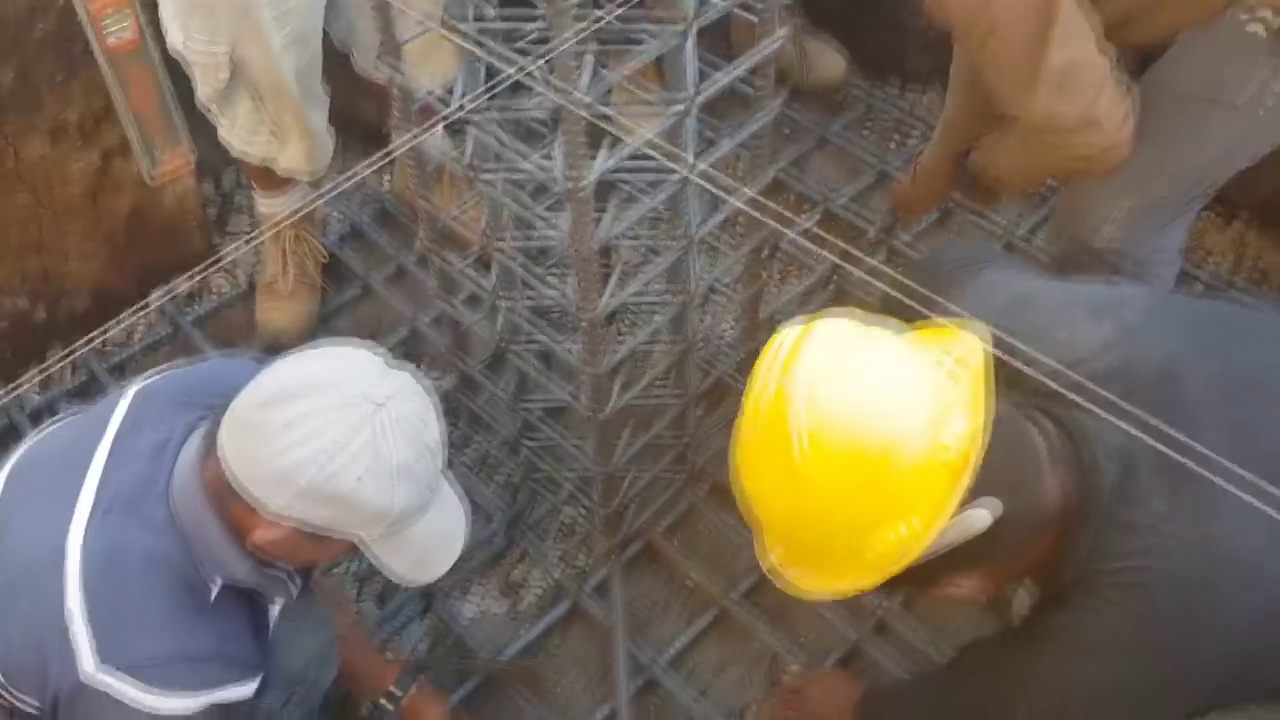helmet: (736, 316, 993, 622)
helmet-off: (209, 341, 446, 605)
person: (714, 268, 1280, 719), (7, 333, 475, 719), (152, 3, 524, 335), (885, 2, 1280, 292)
